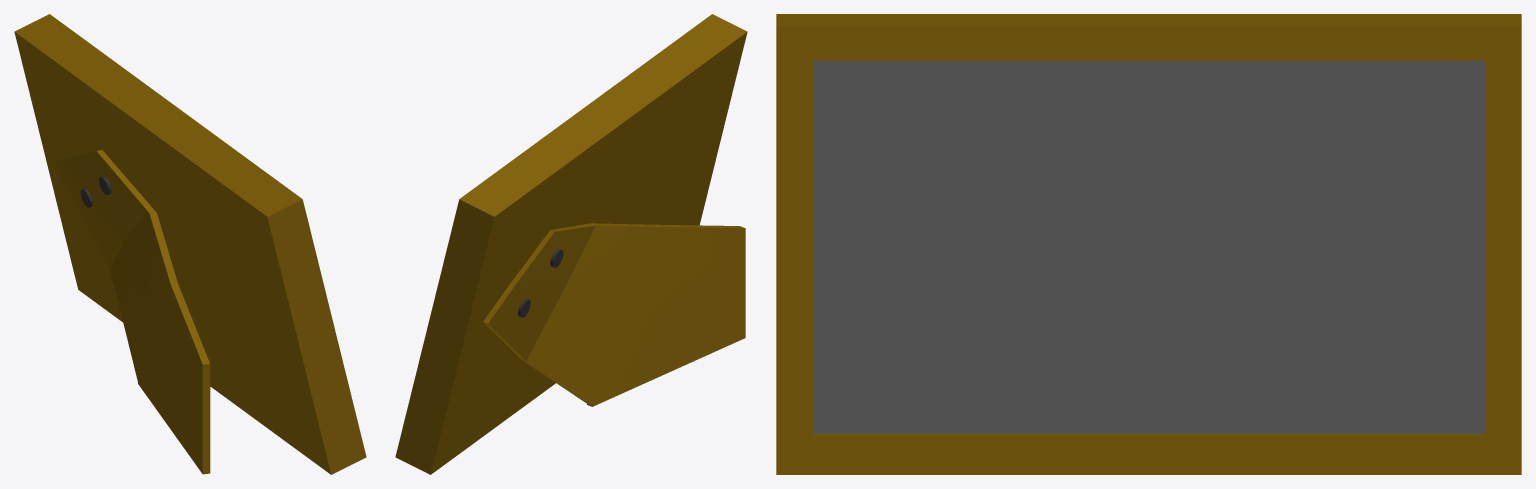
File: Small_Frame.fbx
The picture shows the model from 3 angles, left to right: view 1: azimuth 30°, elevation 25°; view 2: azimuth 150°, elevation 25°; view 3: azimuth 270°, elevation 25°; orthographic projection. The views are drawn at different scales.
Parts seen in each view (by area): view 1: Cube; view 2: Cube; view 3: Cube.
Part boxes in pixels (bbox=[...]): Cube: bbox=[14, 14, 366, 474]; Cube: bbox=[395, 14, 747, 474]; Cube: bbox=[776, 14, 1521, 474].
Size of the model in its own units: 59.22 by 123 by 199.
